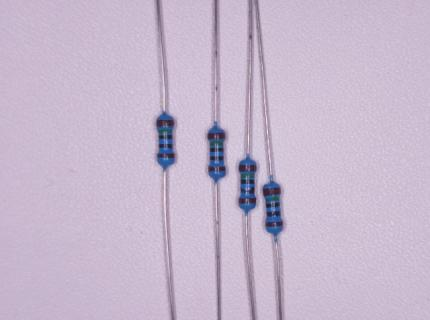Black band: (241, 187, 255, 194), (267, 211, 281, 217), (158, 135, 173, 140), (210, 156, 224, 161), (266, 203, 280, 208), (160, 144, 173, 149), (210, 148, 223, 153), (241, 180, 254, 184)
Brown band: (263, 187, 280, 196), (156, 120, 174, 127), (240, 165, 256, 172), (157, 153, 174, 159), (208, 133, 225, 139), (265, 221, 283, 226), (239, 198, 256, 203), (209, 167, 226, 171)
Green band: (265, 198, 280, 202), (240, 174, 255, 178), (210, 142, 224, 146), (158, 130, 172, 134)
